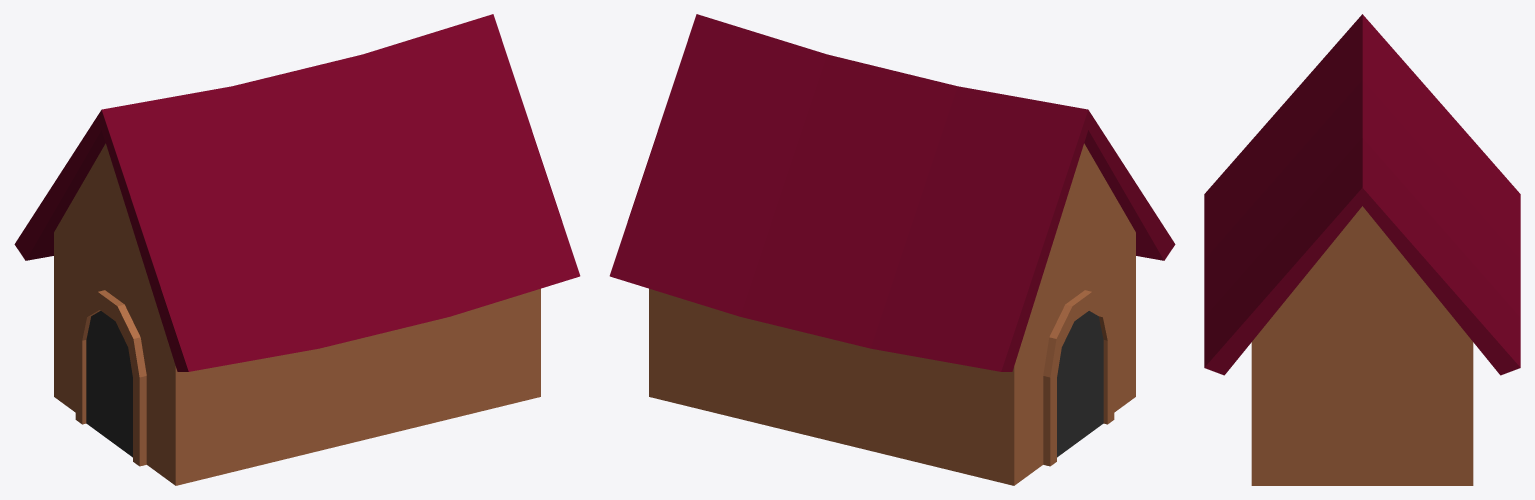
The model's file is dog_house_1.fbx.
The picture shows the model from 3 angles, left to right: view 1: azimuth 30°, elevation 25°; view 2: azimuth 150°, elevation 25°; view 3: azimuth 270°, elevation 25°; orthographic projection. The views are drawn at different scales.
Visible parts, largest first — view 1: dog_house_1; view 2: dog_house_1; view 3: dog_house_1.
Part boxes in pixels (x1,y1,x2,y2): dog_house_1: (14,14,580,485); dog_house_1: (609,14,1175,485); dog_house_1: (1204,14,1520,485).
Size of the model in its own units: 1.67 by 1.37 by 1.29.
